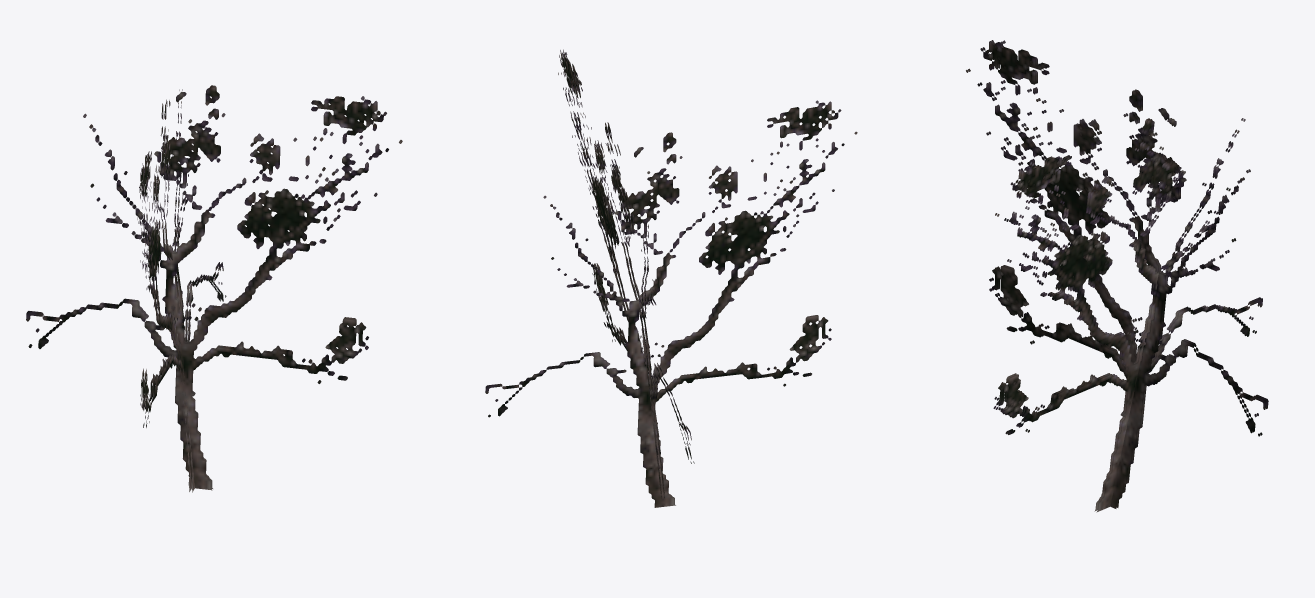
Rendered from tree010.fbx.
The picture shows the model from 3 angles, left to right: view 1: azimuth 30°, elevation 25°; view 2: azimuth 150°, elevation 25°; view 3: azimuth 270°, elevation 25°; orthographic projection. The views are drawn at different scales.
Parts seen in each view (by area): view 1: tree010; view 2: tree010; view 3: tree010.
Part boxes in pixels (x1,y1,x2,y2): tree010: [26, 85, 402, 492]; tree010: [485, 49, 857, 507]; tree010: [966, 40, 1268, 512].
Size of the model in its own units: 267 by 310 by 245.
Materials: 1 (1 with a texture image).
